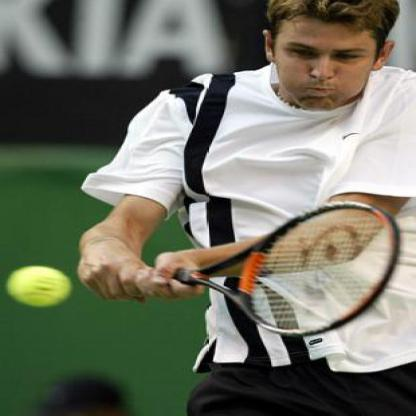face: (273, 1, 381, 113)
